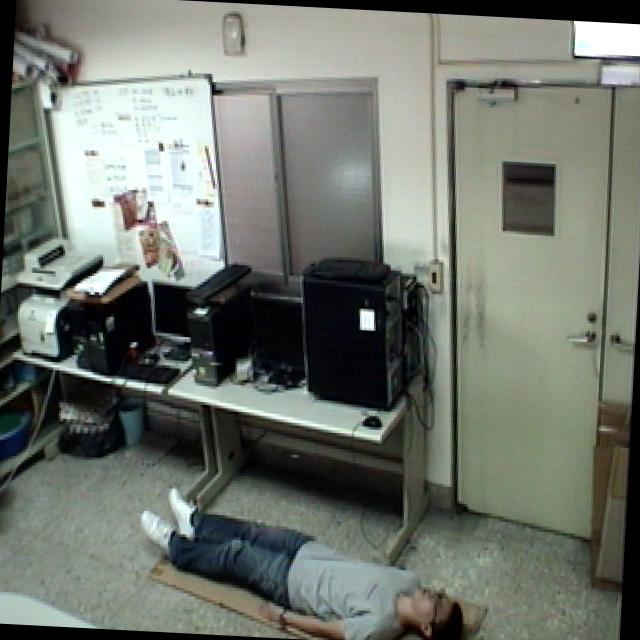lie: (128, 468, 475, 640)
